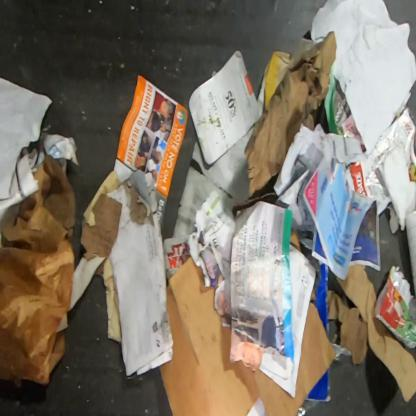cardboard: (159, 256, 337, 415), (80, 168, 173, 376)
soft_plastic: (374, 264, 415, 349)
